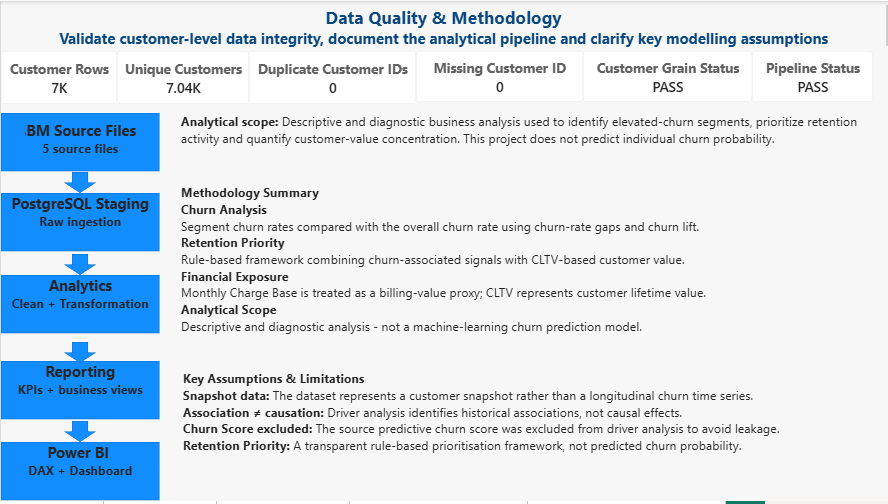

This screenshot's page, from the dashboard's own definition file:
{"tool":"powerbi","page":{"name":"Data Quality & Methodology","canvas":[1920,1080],"ordinal":4},"visuals":[{"type":"cardVisual","fields":{"Data":["Sum(Data Quality.pbi_customer_rows)"]},"box":[0,108,250.6,114.5],"z":0},{"type":"cardVisual","fields":{"Data":["Sum(Data Quality.pbi_unique_customers)"]},"box":[250.6,108,285.1,114.5],"z":1000},{"type":"textbox","box":[0,8.8,1920,99.2],"z":2000},{"type":"cardVisual","fields":{"Data":["Sum(Data Quality.duplicate_customer_ids)"]},"box":[535.7,108,360.7,114.5],"z":6000},{"type":"cardVisual","fields":{"Data":["Sum(Data Quality.missing_customer_id)"]},"box":[896.4,108,360.7,110.2],"z":13000},{"type":"cardVisual","fields":{"Data":["Min(Data Quality.customer_grain_status)"]},"box":[1257.1,108,365.9,110.2],"z":14000},{"type":"cardVisual","fields":{"Data":["Min(Data Quality.pipeline_reconciliation_status)"]},"box":[1622.2,108,261.4,110.2],"z":15000},{"type":"shape","box":[0,242.7,342.4,125.7],"z":15001},{"type":"shape","box":[0,413.9,342.4,125.7],"z":15002},{"type":"shape","box":[0,591.6,342.4,125.7],"z":15003},{"type":"shape","box":[0,778,342.4,125.7],"z":15004},{"type":"shape","box":[0,953.5,342.4,125.7],"z":15005},{"type":"textbox","box":[0,257.9,342.4,91],"z":15006},{"type":"textbox","box":[0,413.9,342.4,125.7],"z":15007},{"type":"textbox","box":[0,591.6,342.4,125.7],"z":15008},{"type":"textbox","box":[0,778,342.4,125.7],"z":15009},{"type":"textbox","box":[0,953.5,342.4,125.7],"z":15010},{"type":"textbox","box":[388.8,395.3,1464.5,401.8],"z":15011},{"type":"textbox","box":[393.1,797,1440.7,259.2],"z":15012},{"type":"shape","box":[136.5,368.4,69.3,45.5],"z":15013},{"type":"shape","box":[136.5,546.1,69.3,45.5],"z":15014},{"type":"shape","box":[136.5,736.8,69.3,45.5],"z":15015},{"type":"shape","box":[136.5,908,69.3,45.5],"z":15016},{"type":"textbox","box":[388.8,241.9,1494.7,151.2],"z":15017}]}

Visuals, with their boxes in screenshot pixels (x1, y1, x2, y2), scaled from the page's 1920x1080 canvas onto the 888x504 screenshot:
cardVisual - Sum(Data Quality.pbi_customer_rows): crop(0, 50, 116, 104)
cardVisual - Sum(Data Quality.pbi_unique_customers): crop(116, 50, 248, 104)
textbox: crop(0, 4, 887, 50)
cardVisual - Sum(Data Quality.duplicate_customer_ids): crop(248, 50, 415, 104)
cardVisual - Sum(Data Quality.missing_customer_id): crop(415, 50, 581, 102)
cardVisual - Min(Data Quality.customer_grain_status): crop(581, 50, 751, 102)
cardVisual - Min(Data Quality.pipeline_reconciliation_status): crop(750, 50, 871, 102)
shape: crop(0, 113, 158, 172)
shape: crop(0, 193, 158, 252)
shape: crop(0, 276, 158, 335)
shape: crop(0, 363, 158, 422)
shape: crop(0, 445, 158, 503)
textbox: crop(0, 120, 158, 163)
textbox: crop(0, 193, 158, 252)
textbox: crop(0, 276, 158, 335)
textbox: crop(0, 363, 158, 422)
textbox: crop(0, 445, 158, 503)
textbox: crop(180, 184, 857, 372)
textbox: crop(182, 372, 848, 493)
shape: crop(63, 172, 95, 193)
shape: crop(63, 255, 95, 276)
shape: crop(63, 344, 95, 365)
shape: crop(63, 424, 95, 445)
textbox: crop(180, 113, 871, 183)
